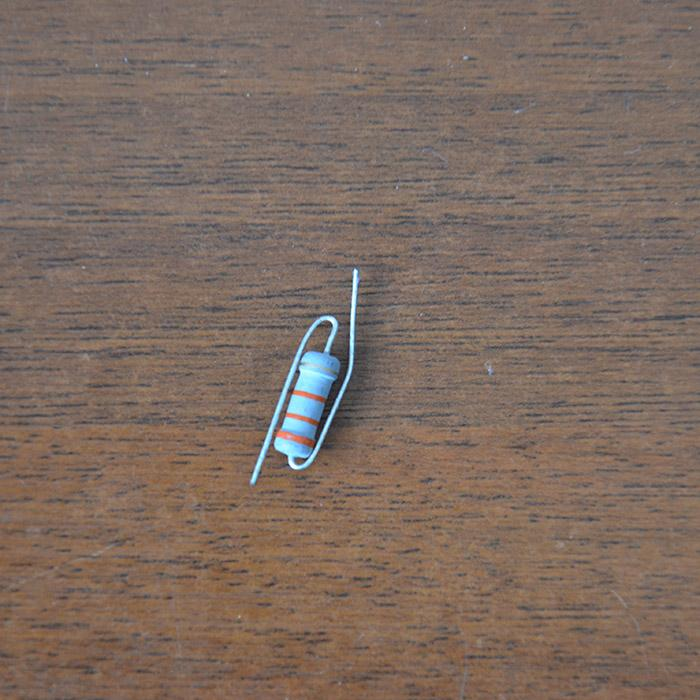resistor: (275, 349, 342, 460)
